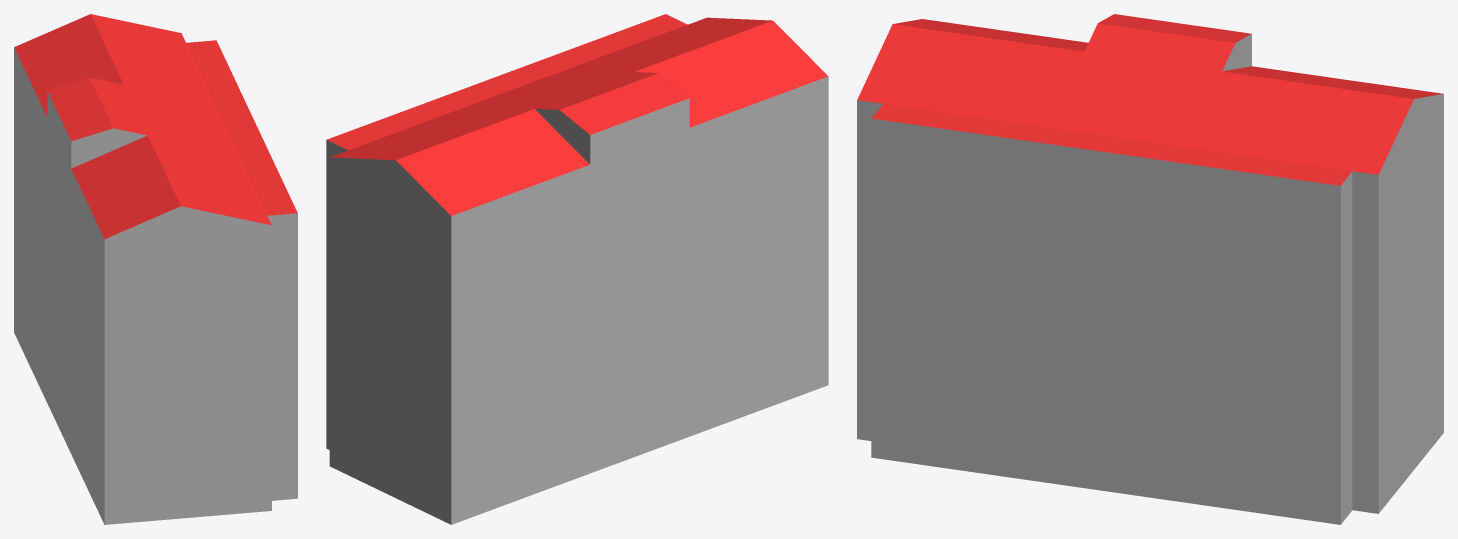
Rendered from pb-9635c107-7f36-11f0-8237-9c7bef4dcf4c.dae.
3 renders of one model, left to right at view 1: azimuth 30°, elevation 25°; view 2: azimuth 150°, elevation 25°; view 3: azimuth 270°, elevation 25°, orthographic. The views are drawn at different scales.
Size of the model in its own units: 21.44 by 31.84 by 22.92.
